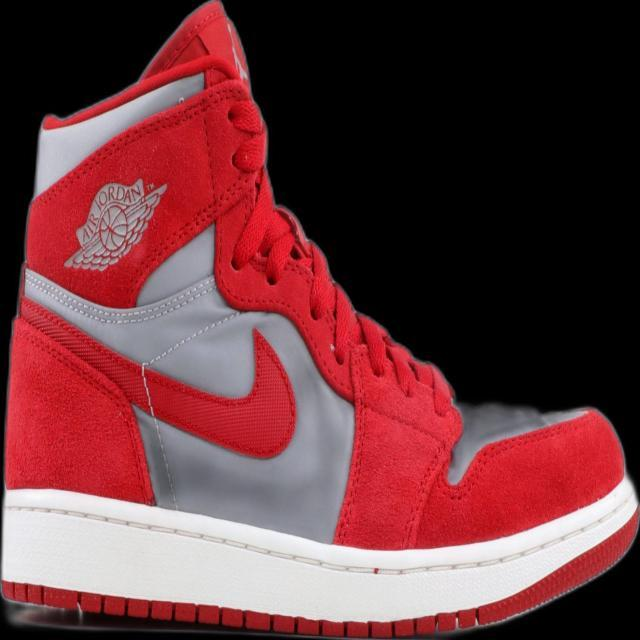J1_InsoleChar: (0, 0, 638, 639)
J1_ShoeLogo: (62, 176, 168, 272)
J1_StitchPattern: (18, 204, 459, 494), (1, 479, 637, 635), (16, 261, 292, 501), (231, 201, 454, 411), (1, 579, 483, 638), (19, 264, 218, 327), (136, 357, 182, 508)
